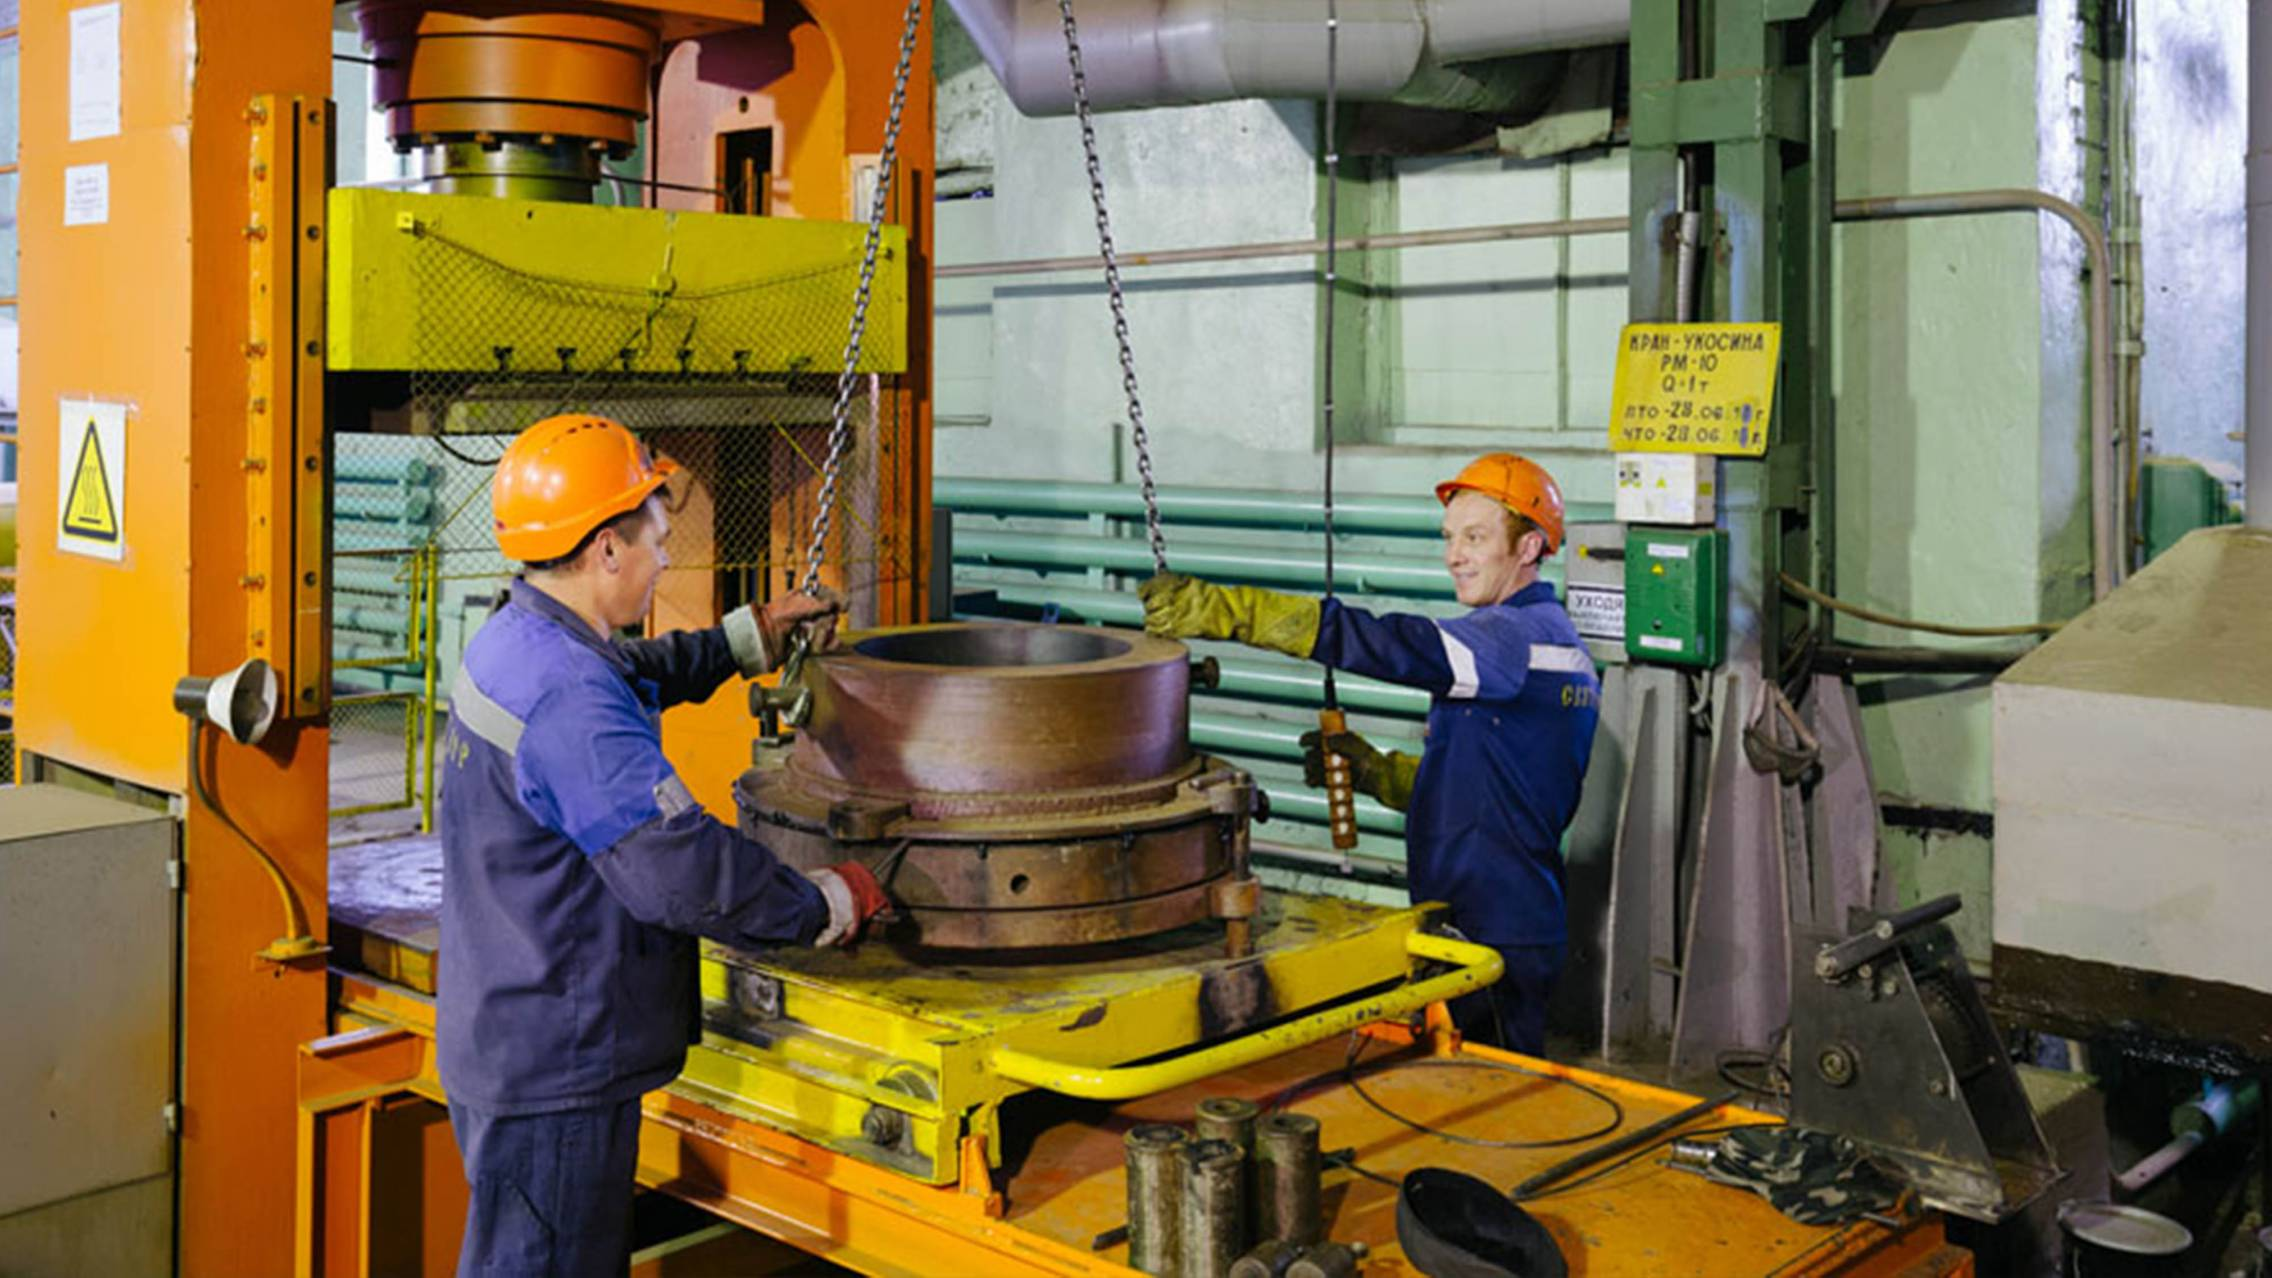person: (436, 415, 857, 1278), (1140, 453, 1603, 1097)
